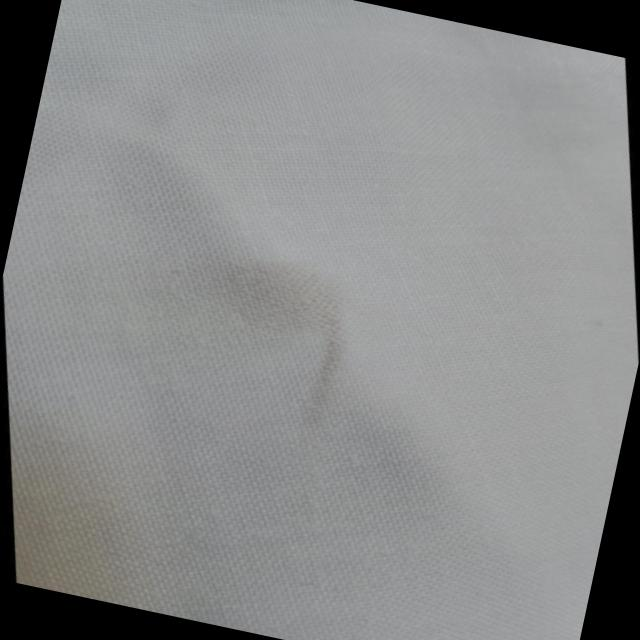stain: (170, 216, 406, 449)
